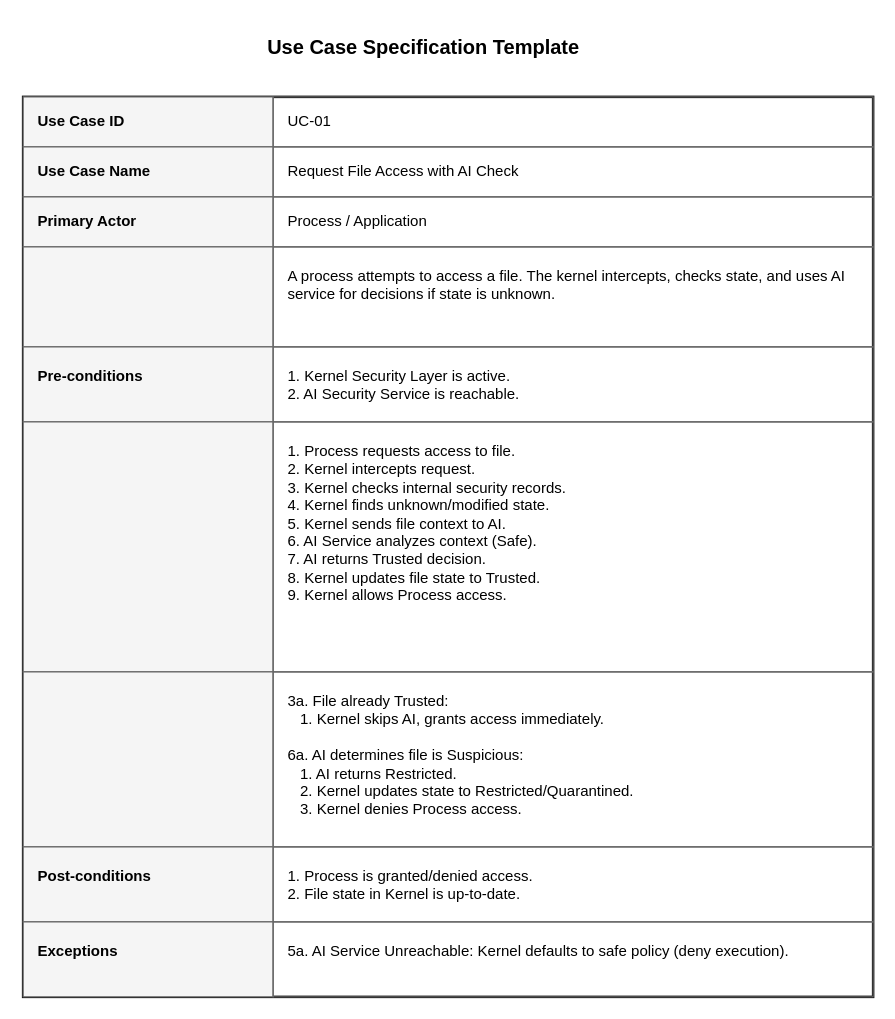
Image size: 895x1019. Some labels were removed from this diagram. Each missing label, with the centre of its shape:
Alternative Flows: the point at 147,759
Description: the point at 147,296
Main Success Scenario: the point at 147,546
